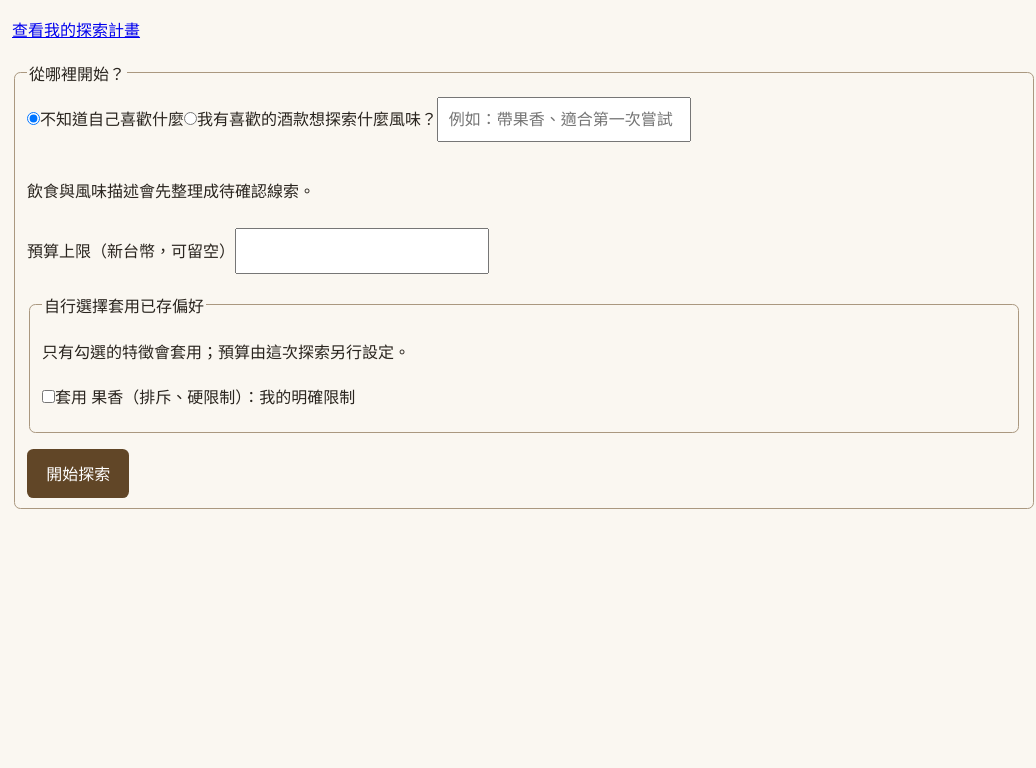
Test case: retaining a feature never silently discards a selected hard avoid preference
Click the checkbox labelled "套用 果香" at (48, 396), box x1=42 y1=390 x2=55 y2=402
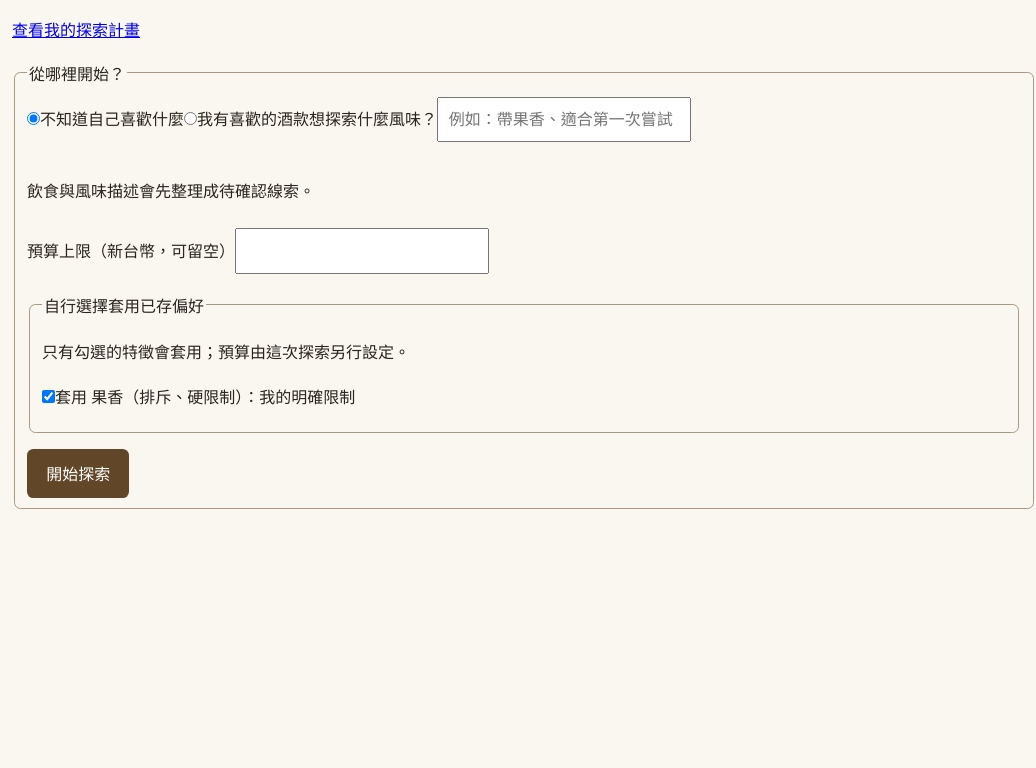
Click the radio button labelled "我有喜歡的酒款" at (190, 119), box x1=184 y1=112 x2=197 y2=125
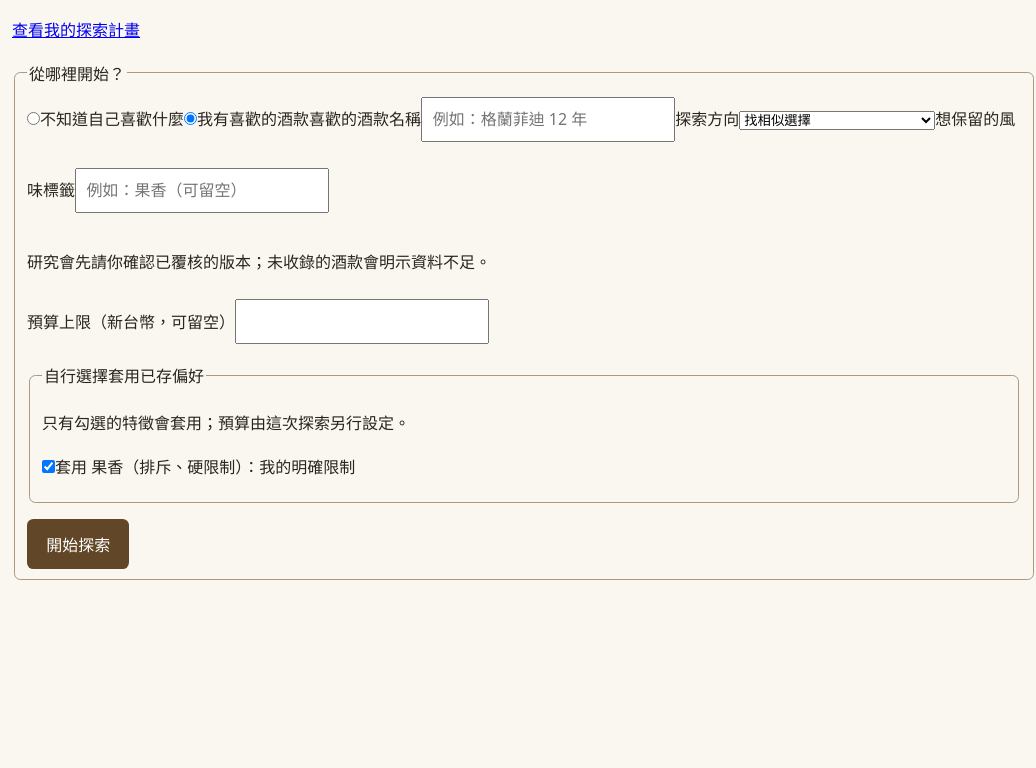
Type "合成起點" into the field labelled "喜歡的酒款名稱" at (548, 119), box x1=421 y1=97 x2=675 y2=142
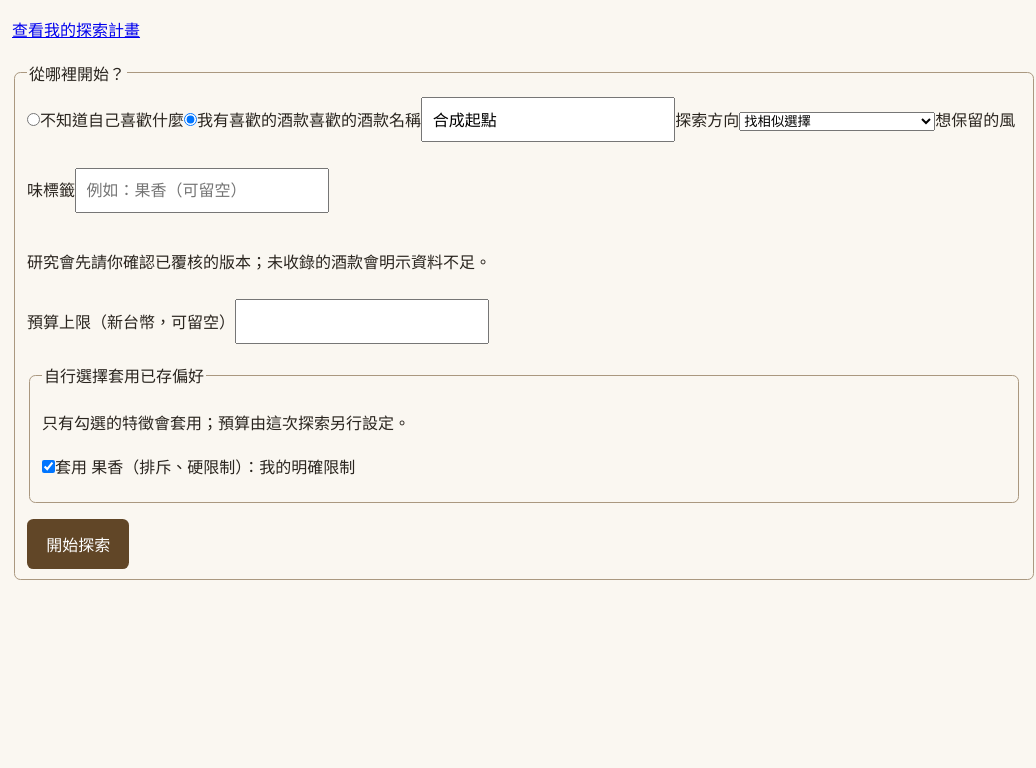
Type "果香" into the field labelled "想保留的風味標籤" at (202, 190), box x1=75 y1=168 x2=329 y2=213
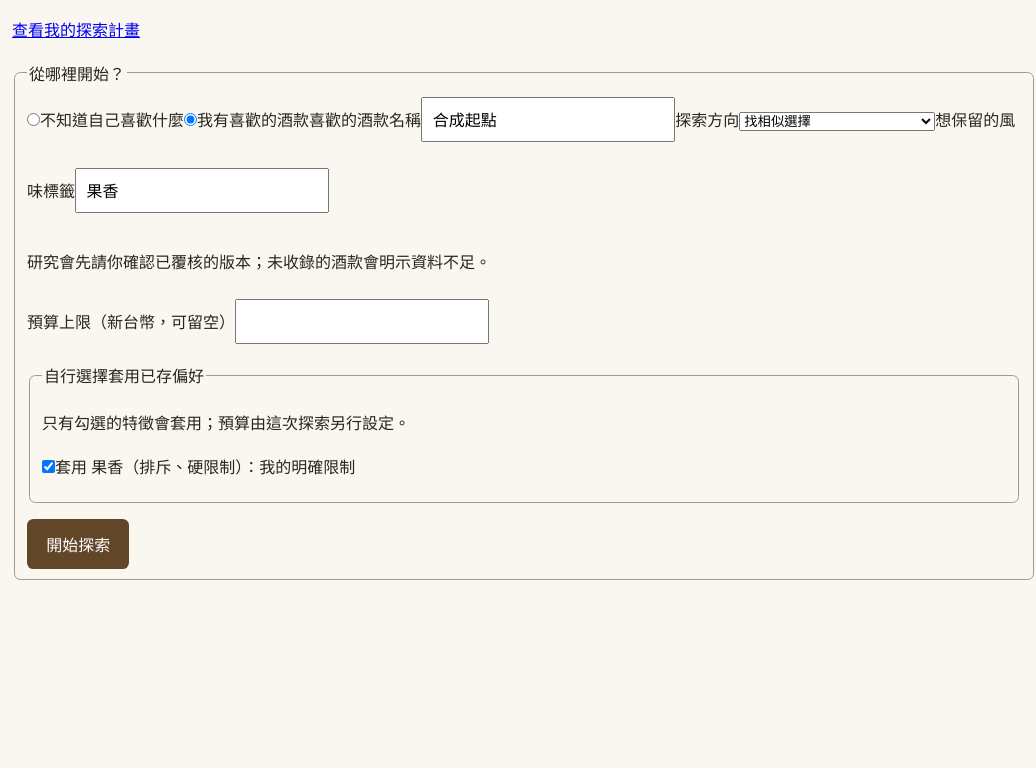
Click the button "開始探索" at (78, 544), box x1=27 y1=520 x2=129 y2=569
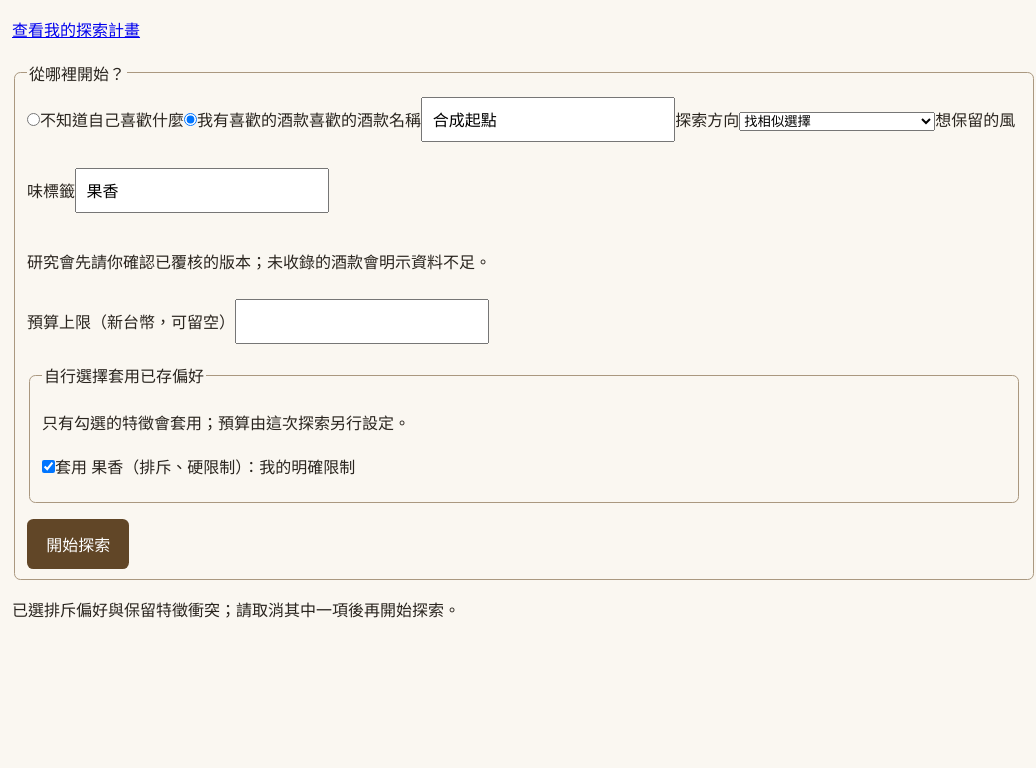
Check: the message shows "已選排斥偏好與保留特徵衝突", box x1=12 y1=599 x2=460 y2=621
